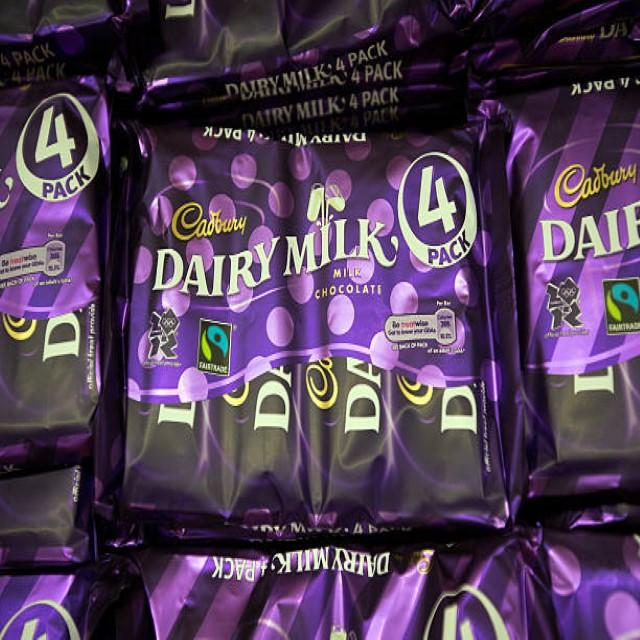cadbury_chocolate: (135, 145, 515, 542), (513, 133, 640, 470), (3, 77, 97, 438)
